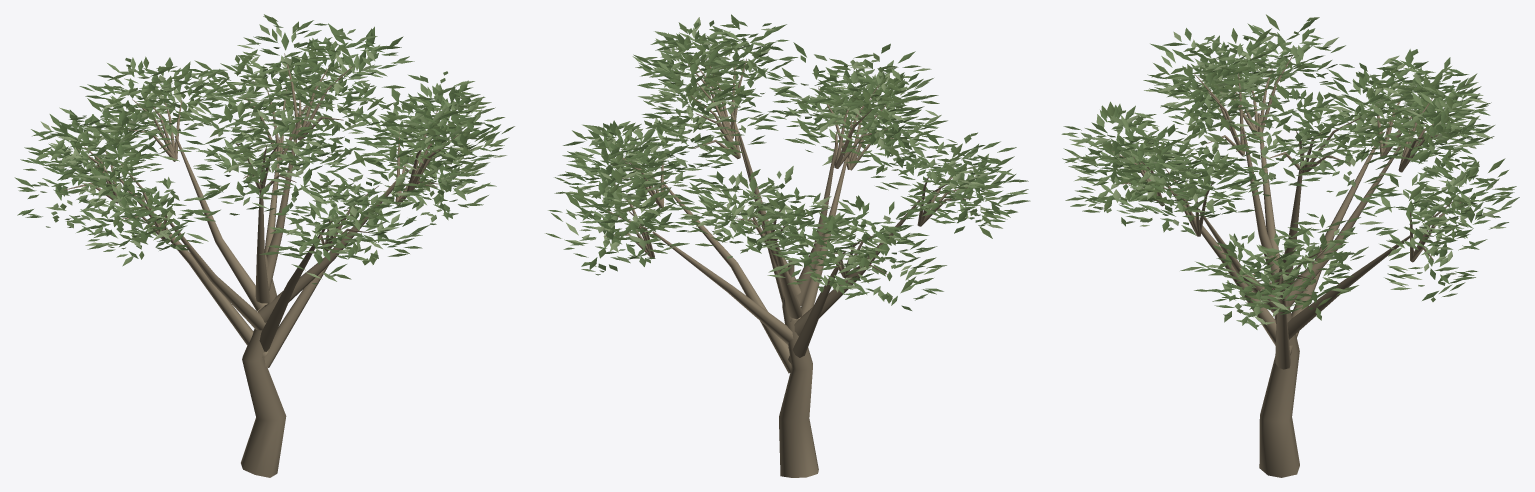
Rendered from mediterranean-olive.glb.
3 views of the same model, side by side, from view 1: azimuth 30°, elevation 25°; view 2: azimuth 150°, elevation 25°; view 3: azimuth 270°, elevation 25° (orthographic). The views are drawn at different scales.
Parts seen in each view (by area): view 1: IndividualOliveLeaves, OliveTrunk; view 2: IndividualOliveLeaves, OliveTrunk; view 3: IndividualOliveLeaves, OliveTrunk.
Part boxes in pixels (x1,y1,x2,y2): IndividualOliveLeaves: (14,14,514,284); OliveTrunk: (63,53,459,477); IndividualOliveLeaves: (545,14,1030,310); OliveTrunk: (604,58,971,477); IndividualOliveLeaves: (1061,14,1519,329); OliveTrunk: (1112,56,1469,477).
Size of the model in its own units: 1.19 by 1.07 by 1.06.
